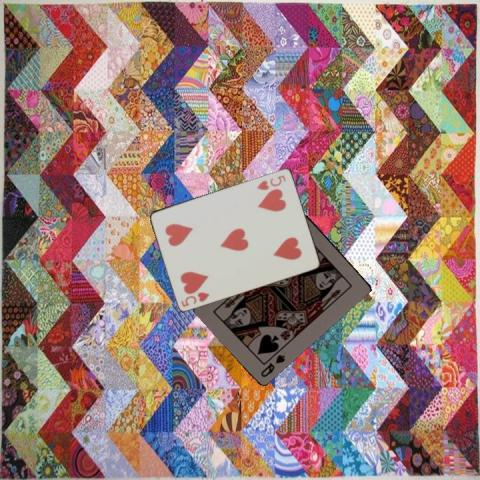5h: (254, 172, 287, 191), (178, 289, 211, 308)
Qs: (258, 351, 287, 378)
